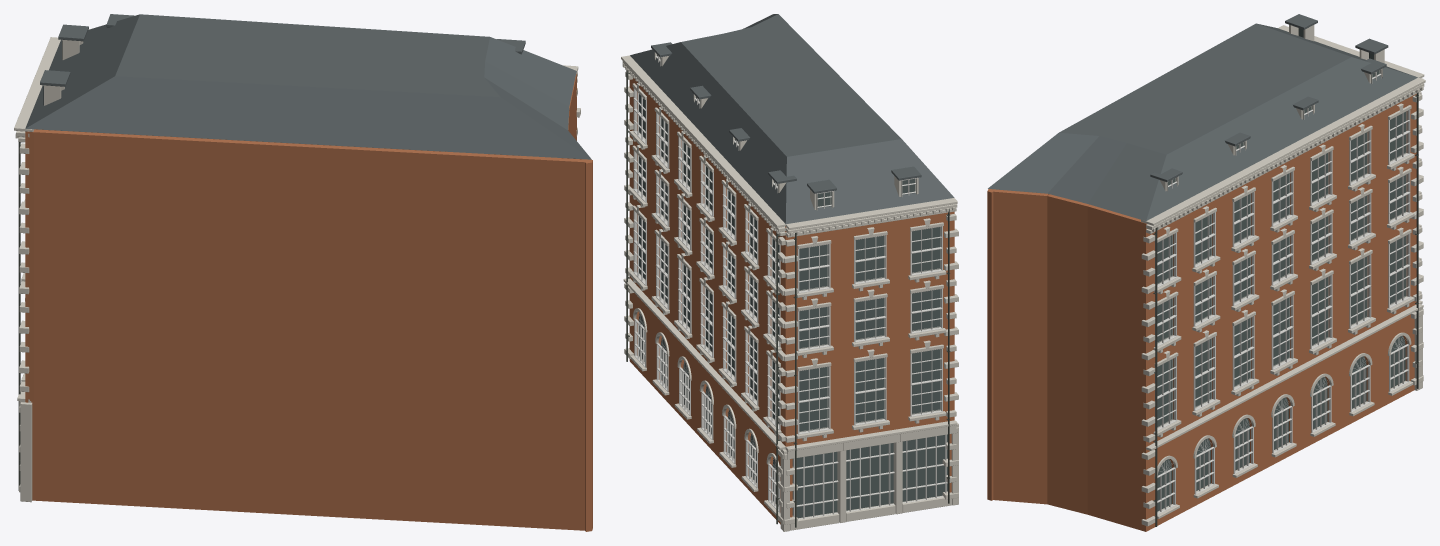
File: lak-exterior-02e564e67d39.glb
3 views of the same model, side by side, from view 1: azimuth 30°, elevation 25°; view 2: azimuth 150°, elevation 25°; view 3: azimuth 270°, elevation 25° (orthographic). The views are drawn at different scales.
Parts seen in each view (by area): view 1: LAK.001; view 2: LAK.001; view 3: LAK.001.
Boxes of the visible parts, box(x1,y1,x2,y2) form: LAK.001: box(14, 14, 592, 531); LAK.001: box(621, 14, 958, 531); LAK.001: box(987, 14, 1425, 531).
Bounding box in the file's own units: 21.55 × 17.55 × 20.1.
